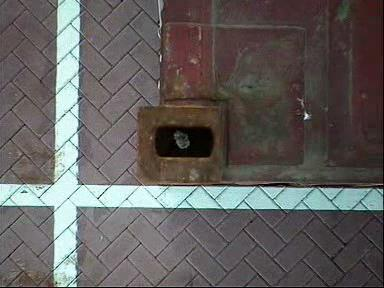groundmarker_2: (182, 157, 224, 213)
